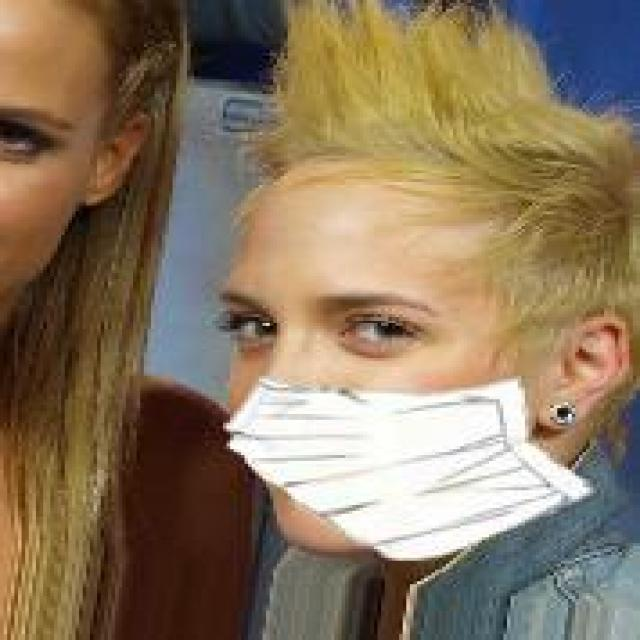mask: (190, 106, 615, 587)
